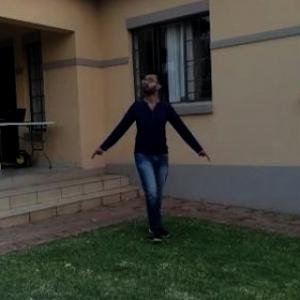land: (102, 78, 195, 226)
